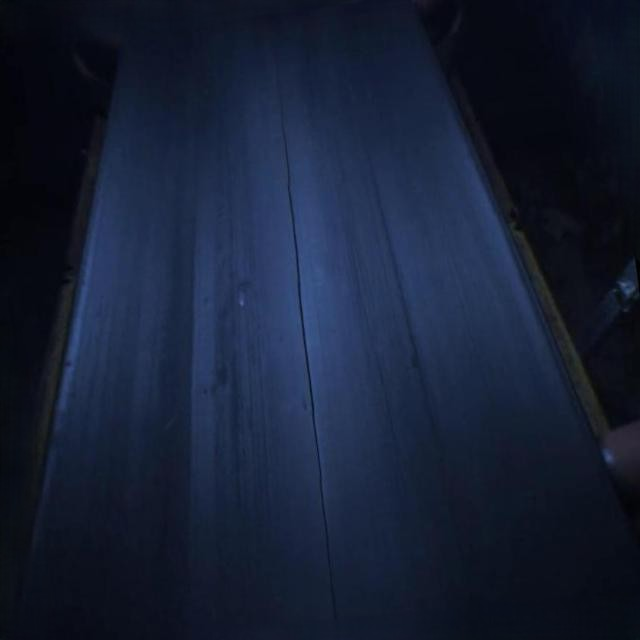Tear: (264, 42, 342, 640)
